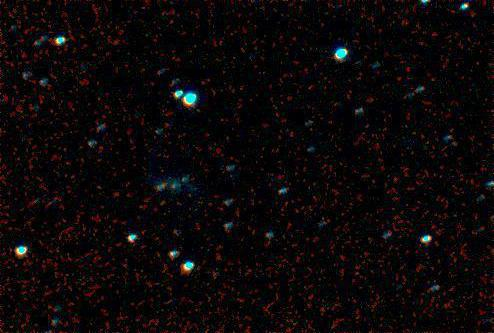star: (149, 169, 179, 199)
